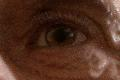eye: (45, 25, 75, 46)
